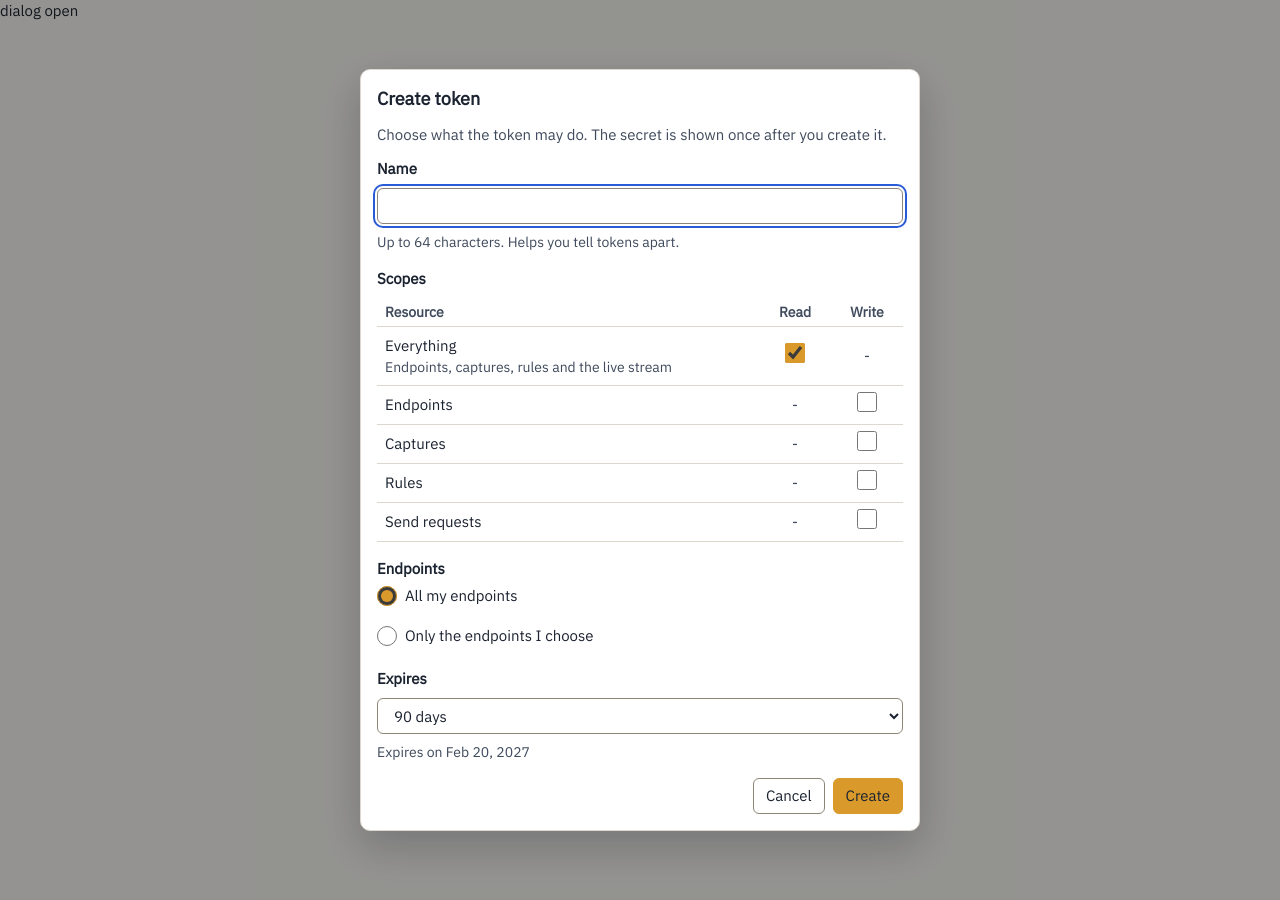
Test: create token dialog › explains the 20 active token limit and keeps the form open
The width and height of the screenshot is (1280, 900).
Type "ci" into the field labelled "Name" at (640, 206), box 377,188 -> 903,224
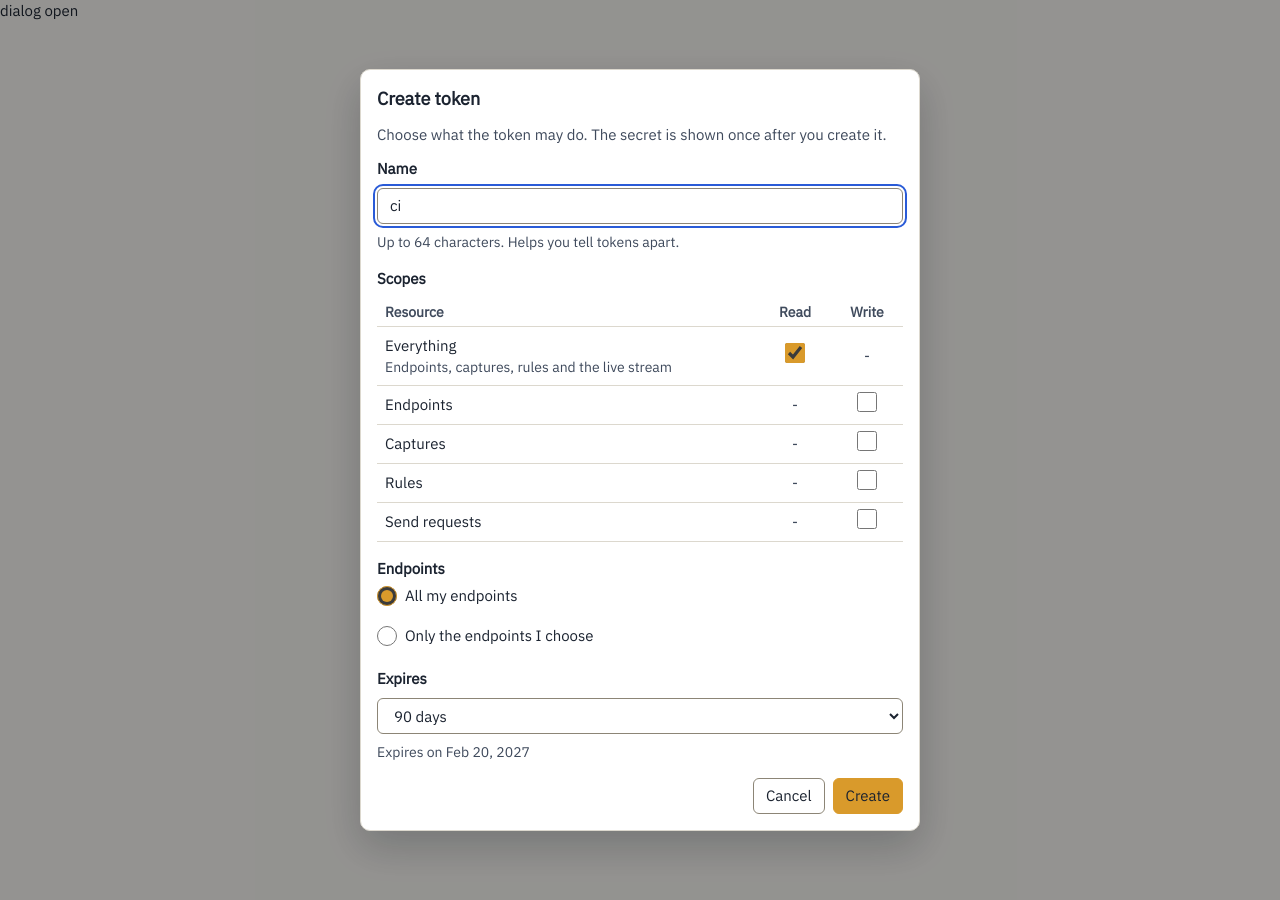
Click the button "Create" at (868, 796), box 833,778 -> 903,814
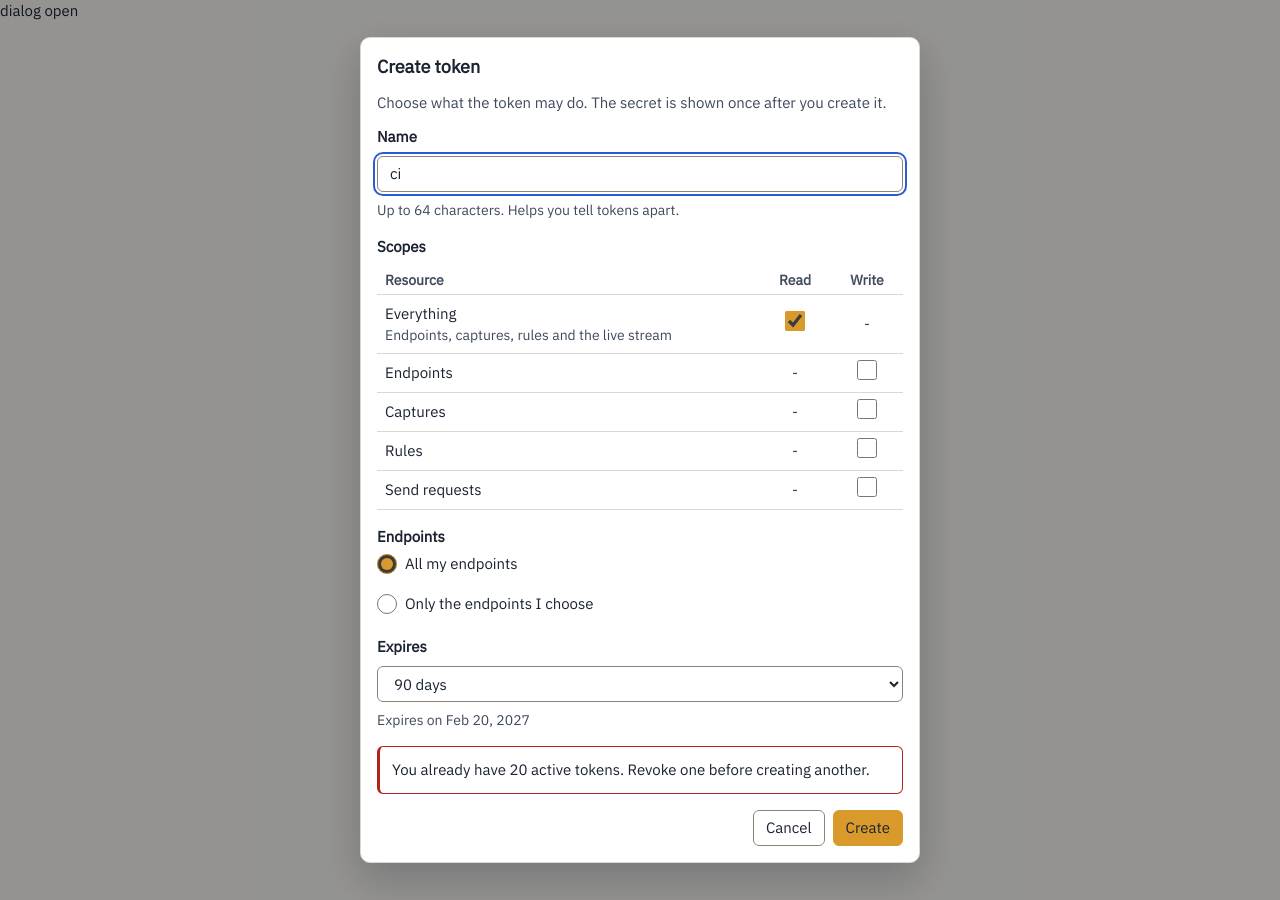
expect the text "You already have 20 active tokens. Revoke one before creating another." is shown: met, box 392,759 -> 890,781
